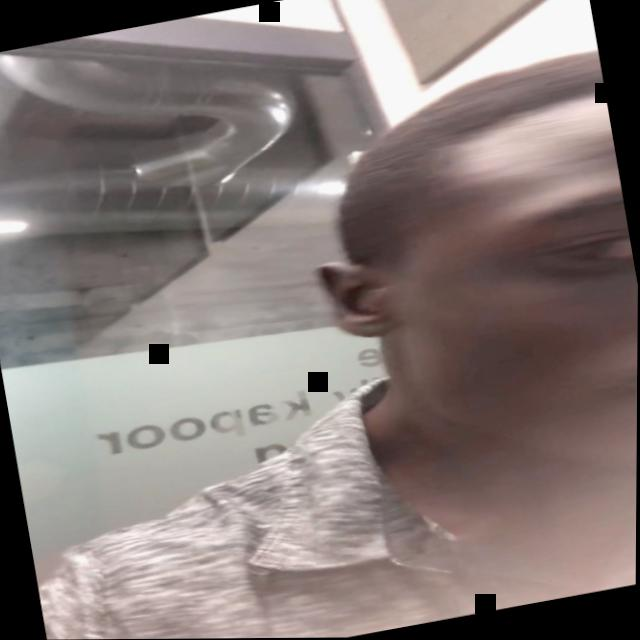NO-Mask: (329, 125, 639, 530)
